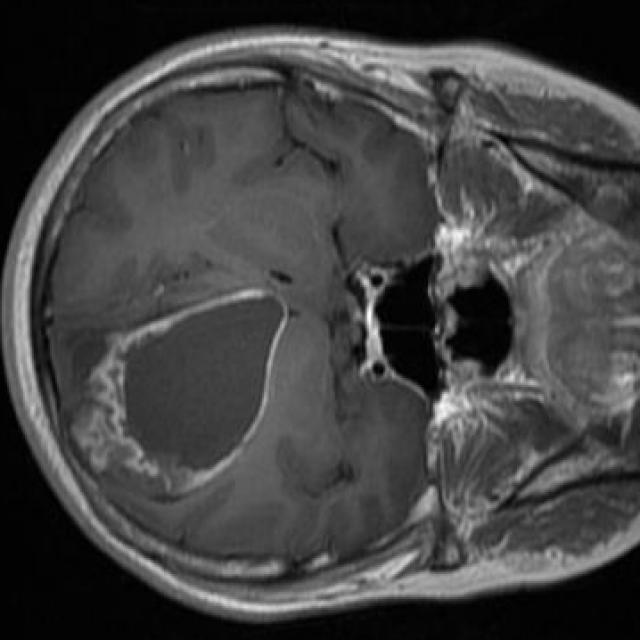glioma: (71, 289, 287, 499)
